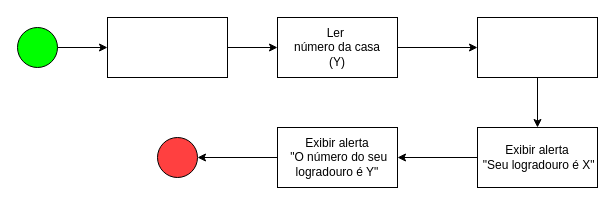
The diagram is 615 pixels wide and 205 high, and some of its shapes have lost their labels. Each missing label, with the box of its shape:
Ler rua/avenida/vila (X): (106, 16, 228, 78)
Usuário clica no botão "Onde moro": (476, 16, 598, 78)
